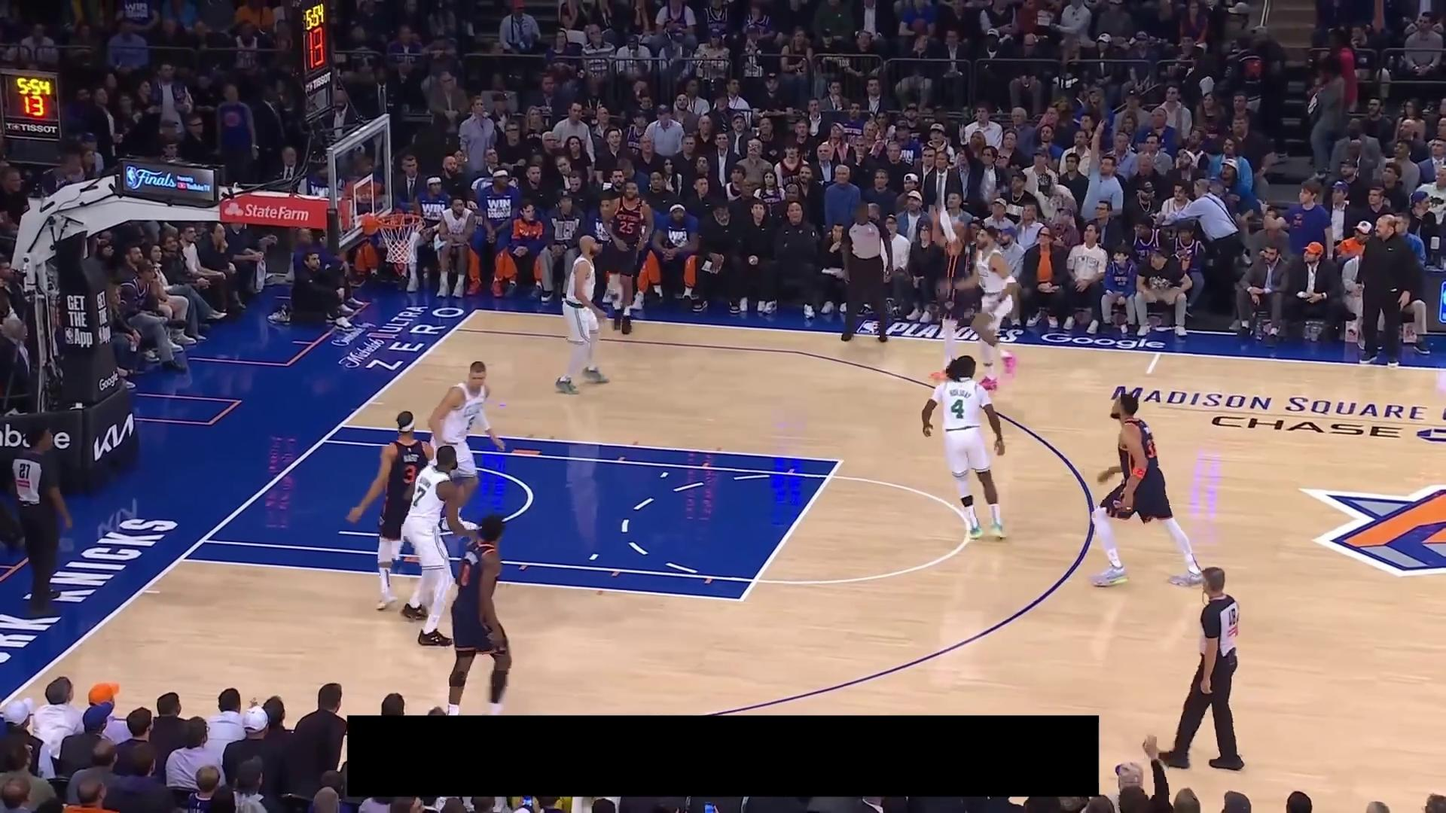number: (950, 397, 966, 419), (412, 486, 427, 508), (404, 464, 417, 484), (618, 220, 635, 235), (460, 564, 471, 587), (464, 413, 477, 432)
player: (1085, 390, 1205, 590), (347, 410, 439, 616), (921, 354, 1009, 541), (401, 443, 476, 649), (426, 358, 508, 538), (446, 513, 514, 715), (939, 224, 1020, 392), (929, 194, 981, 385), (554, 233, 611, 395), (601, 178, 656, 335)
referee: (1157, 566, 1246, 772), (11, 425, 73, 619), (839, 201, 894, 343)
rim: (377, 212, 426, 228)
